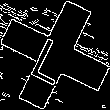L_NE: (30, 25, 80, 85)
